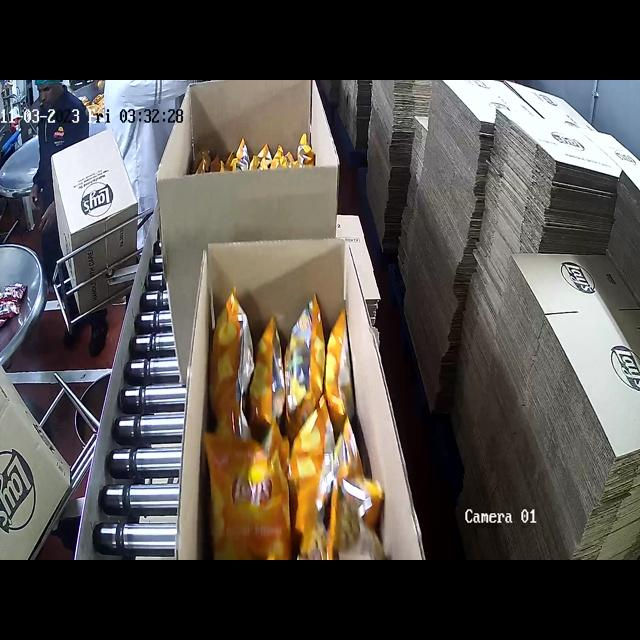cheese: (208, 295, 384, 554), (189, 117, 321, 172)
